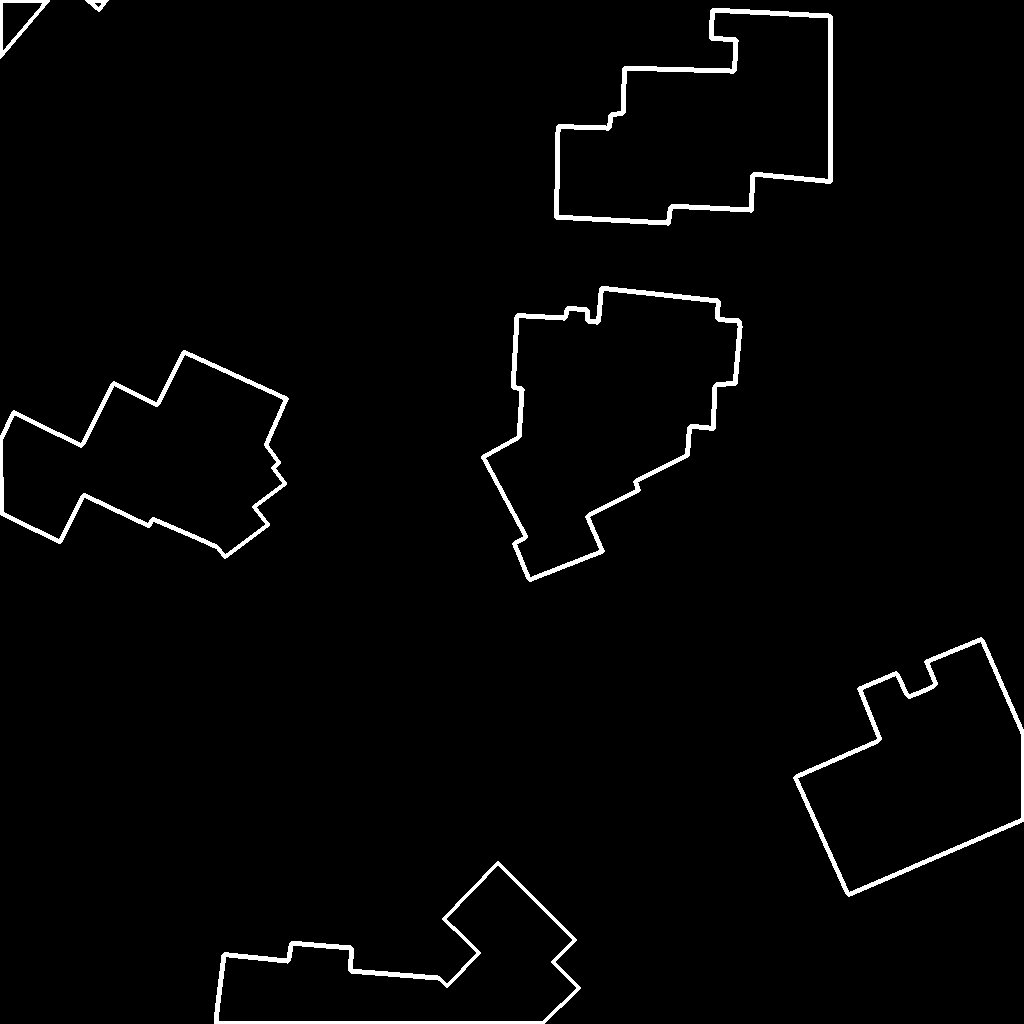building: (483, 288, 741, 581), (0, 352, 288, 558), (556, 10, 832, 224), (795, 639, 1024, 896), (216, 863, 580, 1024), (0, 0, 108, 58)
